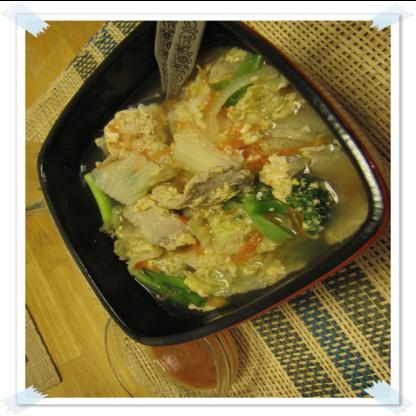Suki: (55, 36, 370, 325)
